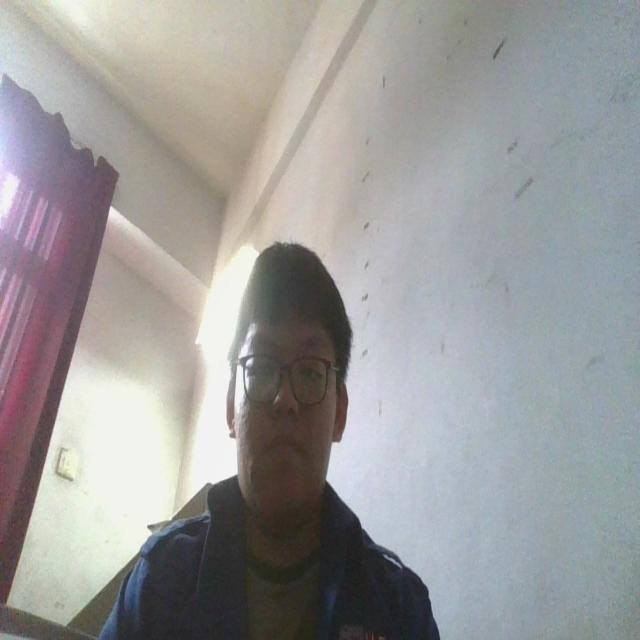person_with_labcoat: (100, 244, 438, 639)
